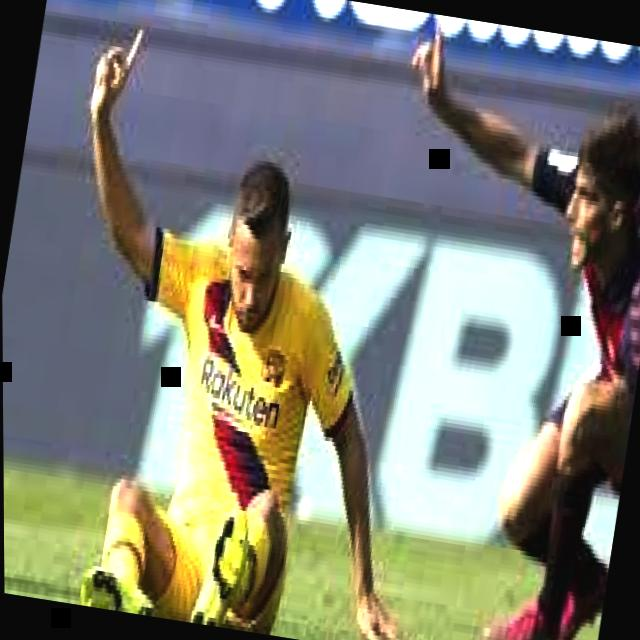Fall-Detected: (0, 15, 526, 637)
